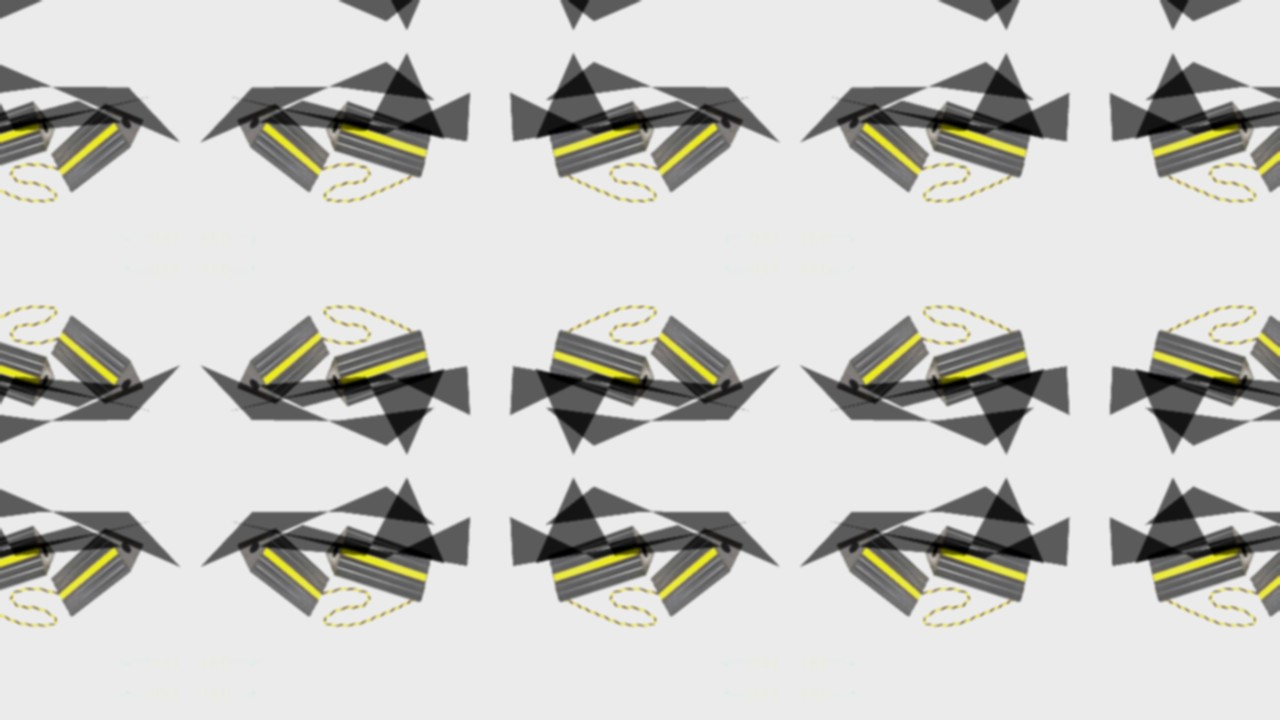chock: (50, 102, 145, 195), (235, 102, 330, 195), (650, 102, 745, 195), (835, 102, 930, 195), (50, 527, 145, 620), (235, 527, 330, 620), (650, 527, 745, 620), (835, 527, 930, 620), (50, 313, 145, 405), (235, 313, 330, 405), (650, 313, 745, 405), (835, 313, 930, 405), (326, 100, 432, 180), (548, 100, 654, 180), (926, 100, 1032, 180), (1148, 100, 1254, 180), (326, 328, 432, 408), (548, 328, 654, 408), (926, 328, 1032, 408), (1148, 328, 1254, 408), (326, 525, 432, 605), (548, 525, 654, 605), (926, 525, 1032, 605), (1148, 525, 1254, 605), (0, 100, 54, 180), (0, 328, 54, 408), (0, 525, 54, 605), (1250, 102, 1280, 195), (1250, 527, 1280, 620), (1250, 313, 1280, 405)
